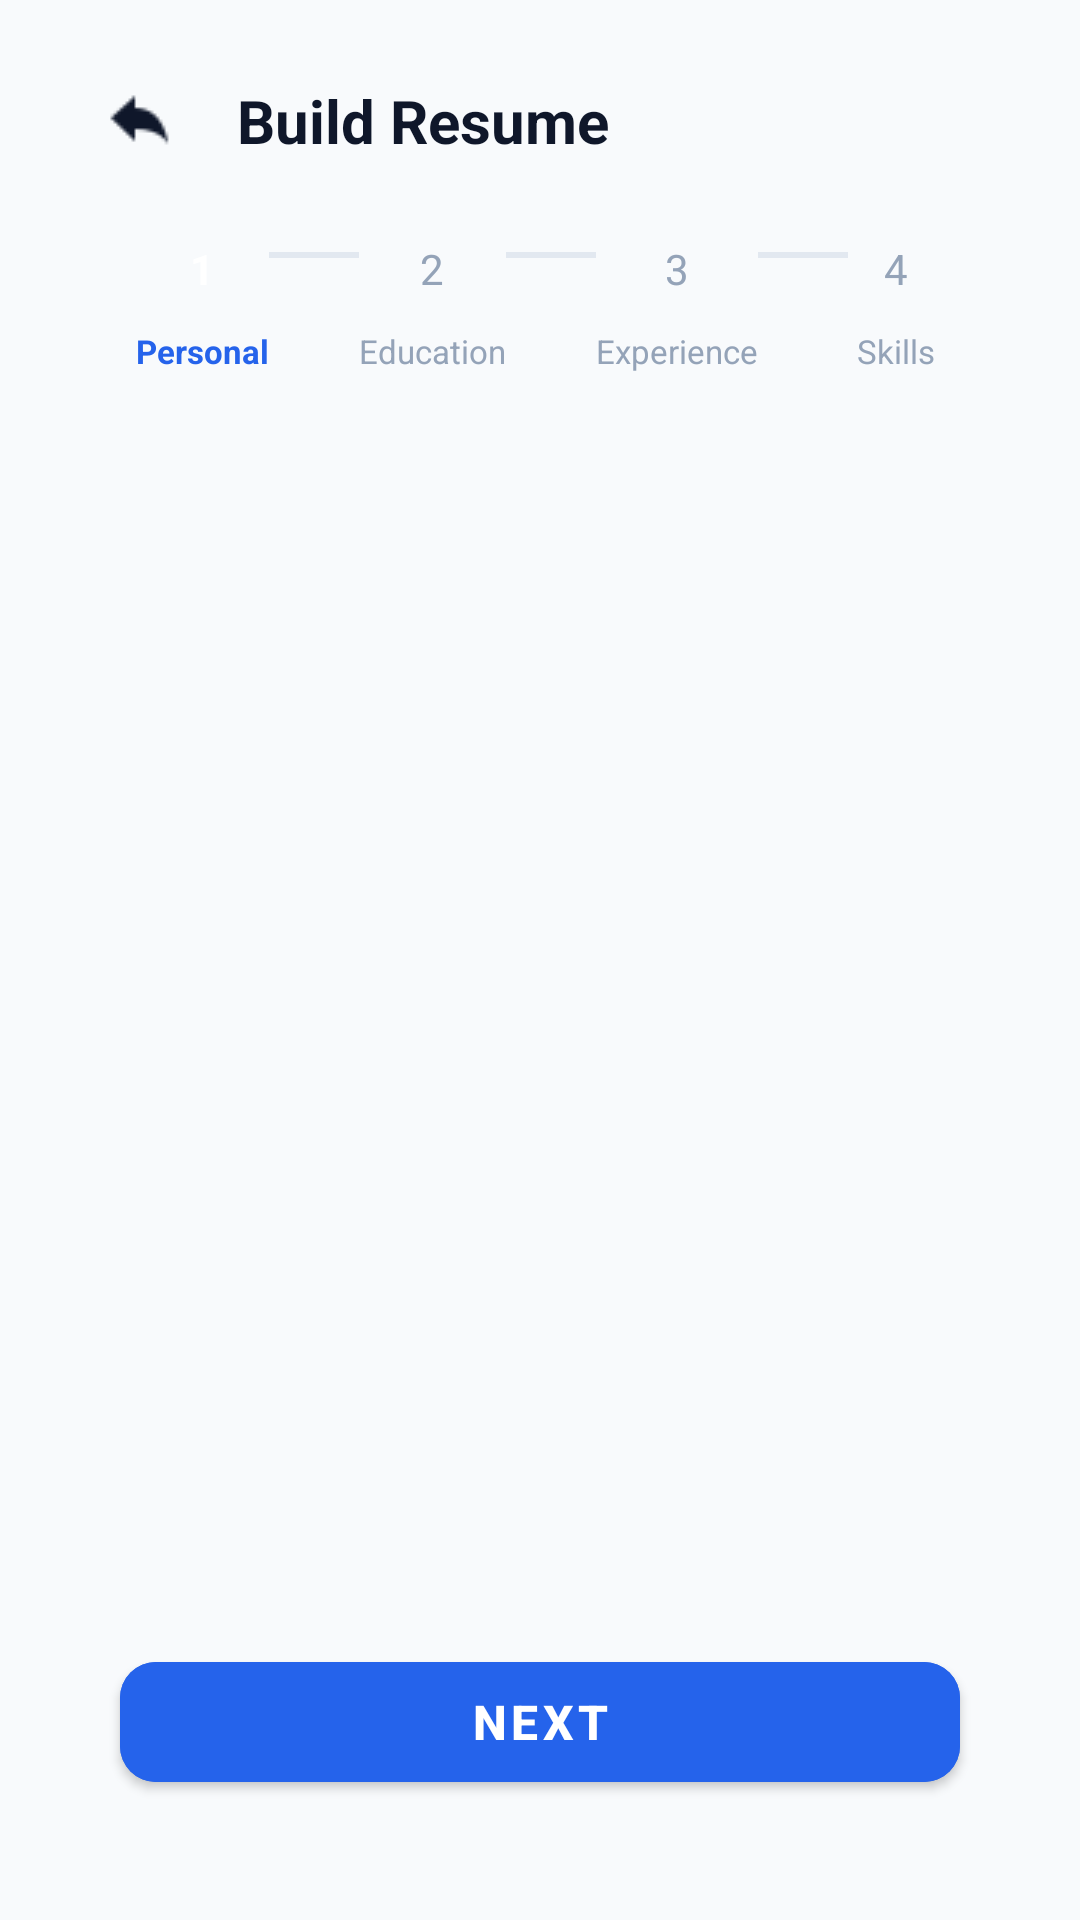

Locate icon controls on the screen. Image size 1080px x 1920px, boxes as (x1, y1, x2, y2).
Back: (110, 95, 169, 144)
